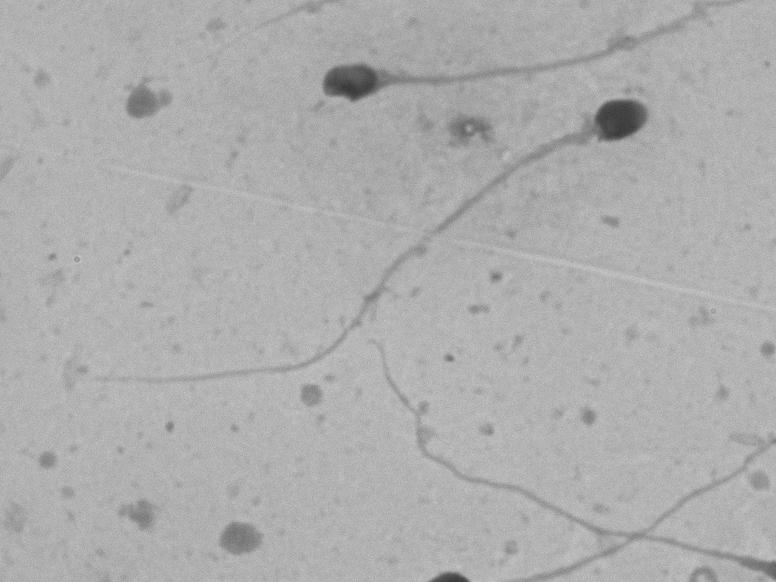Abnormal: (51, 86, 662, 406), (303, 7, 709, 114)
